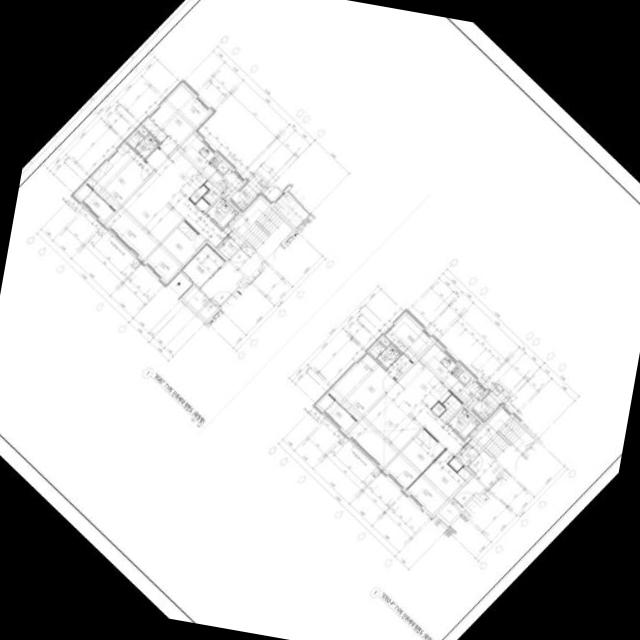background: (0, 0, 640, 640)
space_balconi: (142, 85, 209, 135), (202, 168, 243, 204), (229, 172, 269, 207), (449, 379, 485, 409), (324, 401, 356, 432), (82, 191, 114, 221)
space_bedroom: (328, 353, 396, 420), (87, 143, 153, 210), (406, 449, 470, 515), (384, 429, 444, 489), (145, 220, 204, 281), (154, 113, 193, 156)
space_dressroom: (384, 315, 432, 362), (386, 354, 412, 379)
space_elevator: (479, 473, 508, 502), (241, 267, 266, 292)
space_elevator_hall: (199, 243, 270, 307), (452, 450, 512, 507)
space_front: (180, 243, 225, 288), (454, 439, 481, 467), (216, 231, 243, 259), (447, 457, 462, 471)
space_kitchen: (399, 344, 462, 409), (158, 133, 220, 198)
space_living_room: (106, 147, 231, 259), (347, 379, 471, 467), (194, 197, 209, 211)
space_other: (183, 287, 208, 312), (437, 500, 460, 523), (198, 302, 217, 320), (189, 185, 207, 203), (76, 183, 92, 200), (318, 394, 334, 410), (430, 401, 445, 417), (469, 423, 482, 436), (227, 213, 240, 226), (215, 161, 228, 174), (457, 371, 470, 384), (379, 336, 389, 346), (138, 126, 148, 136), (239, 202, 248, 210)
space_staircase: (473, 408, 535, 474), (232, 198, 293, 264), (438, 394, 462, 423)
space_toilet: (205, 196, 238, 229), (446, 406, 479, 439), (126, 131, 159, 159), (368, 342, 401, 369)
